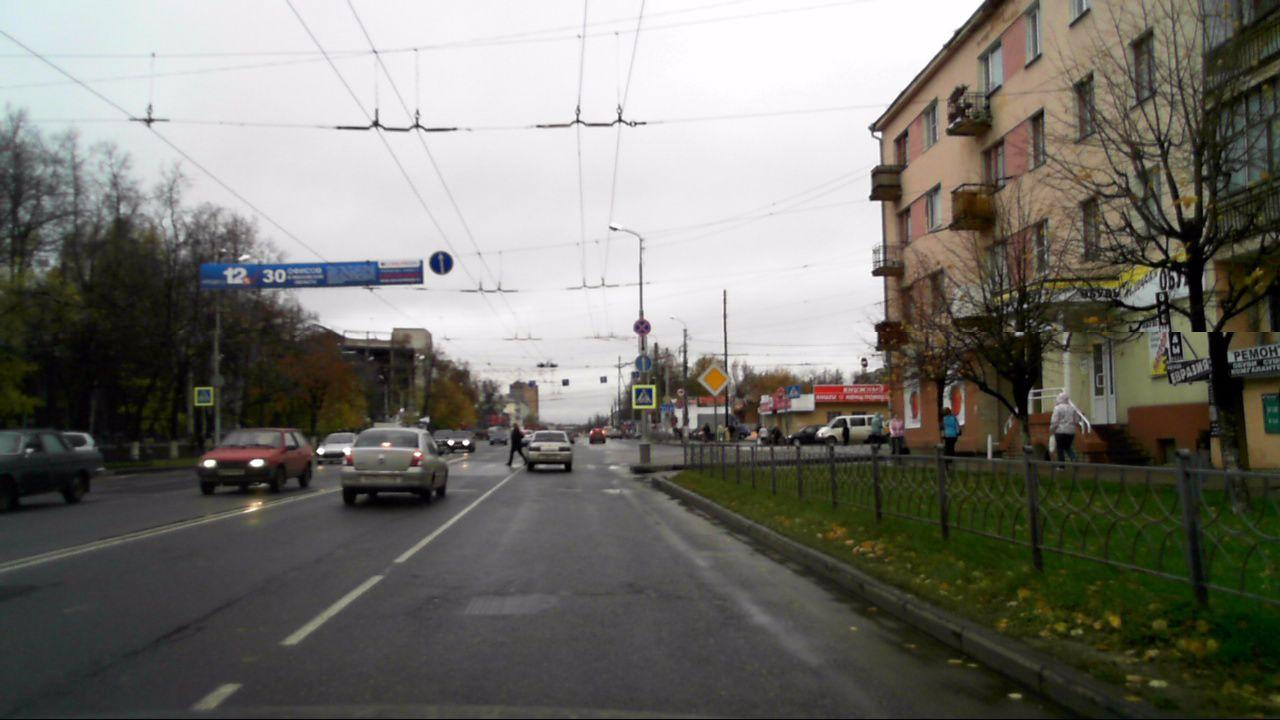pothole: (461, 589, 559, 622)
road_sign: (697, 362, 731, 397), (632, 385, 656, 409), (430, 251, 453, 275), (194, 387, 213, 406), (633, 319, 651, 335), (635, 355, 652, 371), (638, 336, 648, 353)
